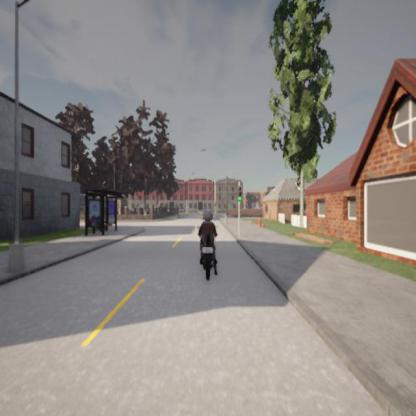motobike: (198, 209, 220, 280)
traffic_light_green: (237, 185, 242, 202)
